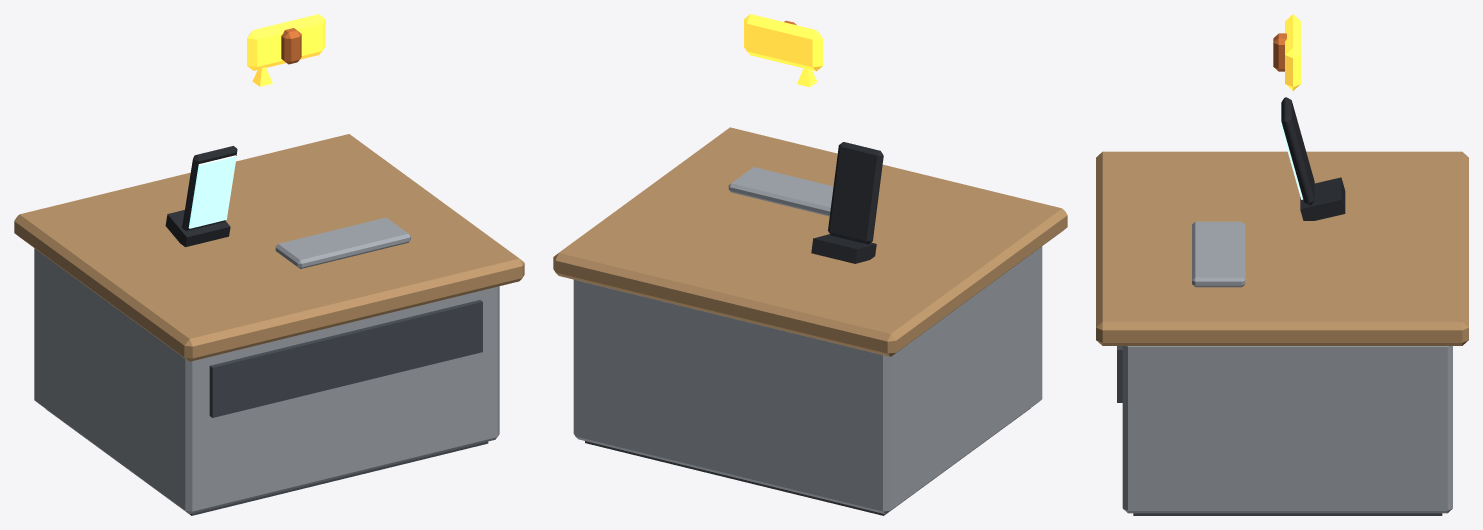
The model's file is quickreply_2.glb.
The picture shows the model from 3 angles, left to right: view 1: azimuth 30°, elevation 25°; view 2: azimuth 150°, elevation 25°; view 3: azimuth 270°, elevation 25°; orthographic projection. The views are drawn at different scales.
Parts seen in each view (by area): view 1: quickreply_2_mesh; view 2: quickreply_2_mesh; view 3: quickreply_2_mesh.
Part boxes in pixels (x1=…): quickreply_2_mesh: x1=14, y1=14, x2=524, y2=515; quickreply_2_mesh: x1=553, y1=14, x2=1067, y2=515; quickreply_2_mesh: x1=1096, y1=14, x2=1468, y2=515.
Bounding box in the file's own units: 0.78 × 0.87 × 0.7.
